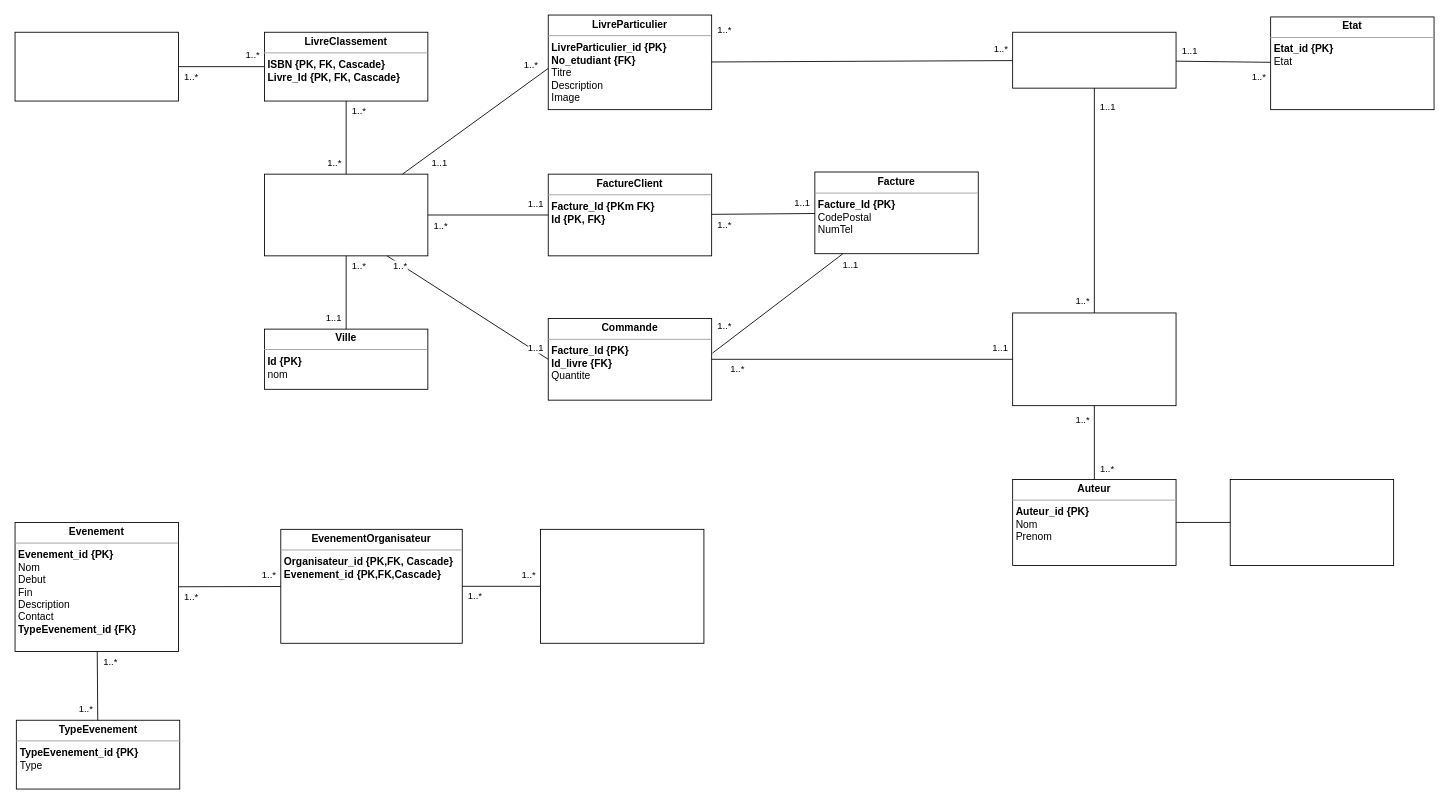
Some shapes in this 1449 by 804 pixel diagram are drawn without their labels. The centre of each missing label's shape, as x and y in pixels:
"Classement Classment_id {PK} Etoiles Commentaire" belongs at (96,66).
"EtatLivre ISBN {PK, FK, Cascade} Livre_Id {PK, FK, Cascade}" belongs at (1094,59).
"Etudiant Id {PK} Id {FK} CodePostal NumTel" belongs at (346,214).
"Livre Facture_Id {PK} ISBM Titre Resumé Image" belongs at (1094,359).
"LivreAuteur Auteur_id {PK,FK} Livre_id {PK,FK} Date edition" belongs at (1311,522).
"Organisateur Organisateur_id {PK} Nom Prenom Rejoindre" belongs at (622,585).
